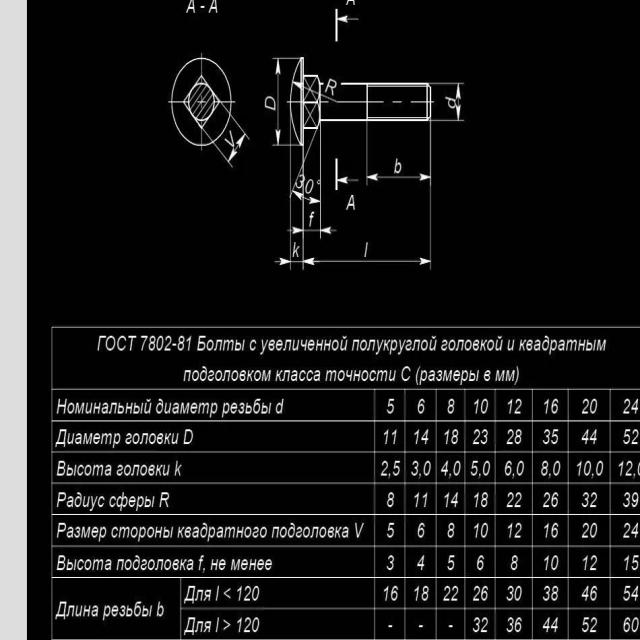marking_line: (304, 256, 431, 267), (367, 172, 429, 183), (274, 57, 280, 146), (228, 134, 245, 162), (454, 84, 464, 117), (339, 173, 360, 185), (339, 15, 360, 25), (287, 225, 302, 238), (321, 223, 334, 237), (274, 257, 290, 265)
numeric: (575, 458, 606, 480), (439, 456, 462, 478), (410, 457, 435, 477), (379, 456, 400, 479), (470, 458, 491, 479), (579, 520, 600, 541), (442, 581, 460, 604), (470, 427, 490, 447), (503, 461, 528, 477), (541, 583, 561, 603), (472, 583, 491, 604), (503, 429, 525, 447), (582, 489, 600, 511), (540, 459, 559, 479), (580, 615, 598, 636), (623, 394, 640, 416), (541, 522, 560, 541), (412, 581, 429, 602), (472, 616, 489, 637), (473, 518, 489, 540), (508, 394, 523, 417), (623, 488, 638, 511), (297, 175, 315, 194), (541, 490, 559, 509), (622, 615, 640, 634), (580, 429, 599, 447), (382, 427, 399, 447), (542, 615, 559, 635), (581, 396, 598, 416), (443, 492, 461, 510), (472, 492, 490, 510), (506, 614, 523, 633), (618, 459, 635, 478), (581, 583, 598, 602), (542, 552, 558, 572), (383, 486, 395, 512), (412, 429, 430, 446), (412, 491, 429, 509), (443, 428, 458, 448), (474, 396, 489, 416), (506, 488, 521, 508), (624, 583, 639, 603), (444, 552, 457, 575), (623, 552, 640, 569), (506, 583, 522, 601), (543, 428, 559, 446), (623, 521, 638, 540), (582, 554, 597, 573), (543, 399, 561, 414), (445, 394, 457, 416), (383, 583, 398, 600), (446, 519, 457, 542), (508, 520, 522, 538), (624, 428, 638, 446), (383, 395, 396, 414), (384, 520, 396, 540), (414, 398, 426, 418), (417, 520, 427, 543), (416, 551, 426, 573), (510, 552, 519, 573), (475, 555, 485, 572), (386, 553, 393, 571)
